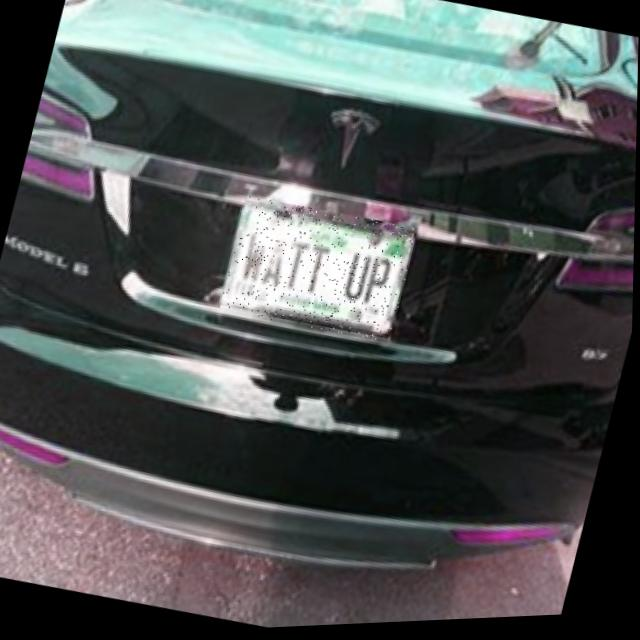license_plate: (219, 192, 420, 352)
